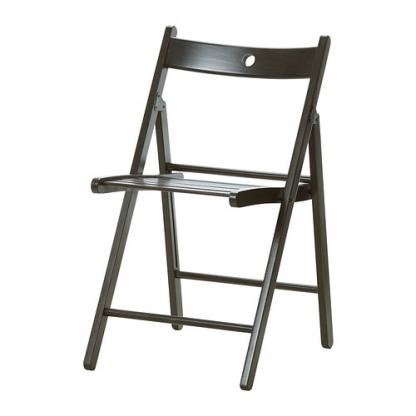Chair: (82, 23, 332, 392)
